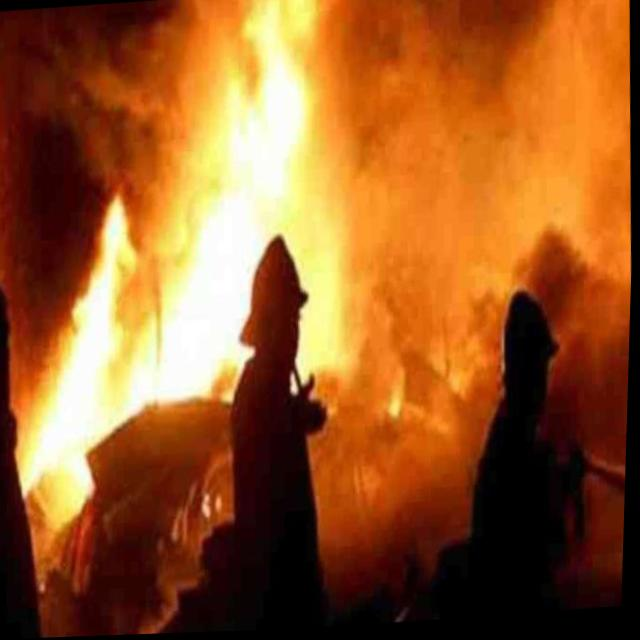fire: (129, 0, 340, 416), (8, 178, 158, 528)
